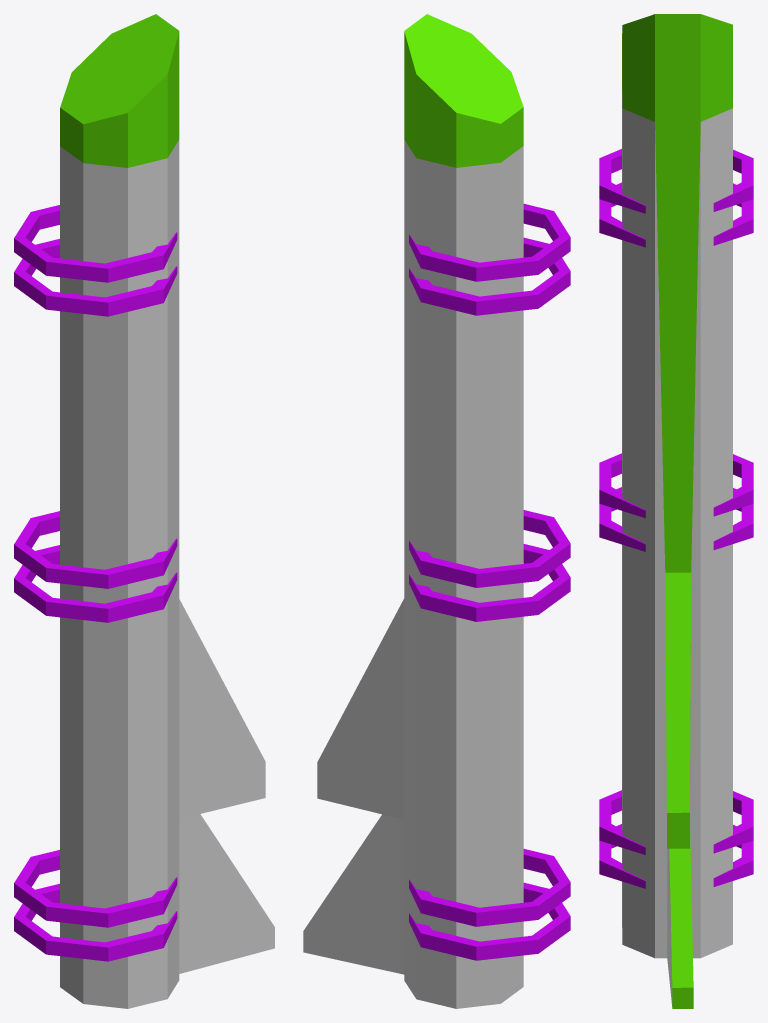
The model's file is missile_lv7.fbx.
The picture shows the model from 3 angles, left to right: view 1: azimuth 30°, elevation 25°; view 2: azimuth 150°, elevation 25°; view 3: azimuth 270°, elevation 25°; orthographic projection.
Visible parts, largest first — view 1: missile_lv7; view 2: missile_lv7; view 3: missile_lv7.
Boxes of the visible parts, <box> form: missile_lv7: <box>14,14,274,1008</box>; missile_lv7: <box>303,14,570,1008</box>; missile_lv7: <box>599,14,753,1008</box>.
Bounding box in the file's own units: 66.1 × 247 × 36.57.
